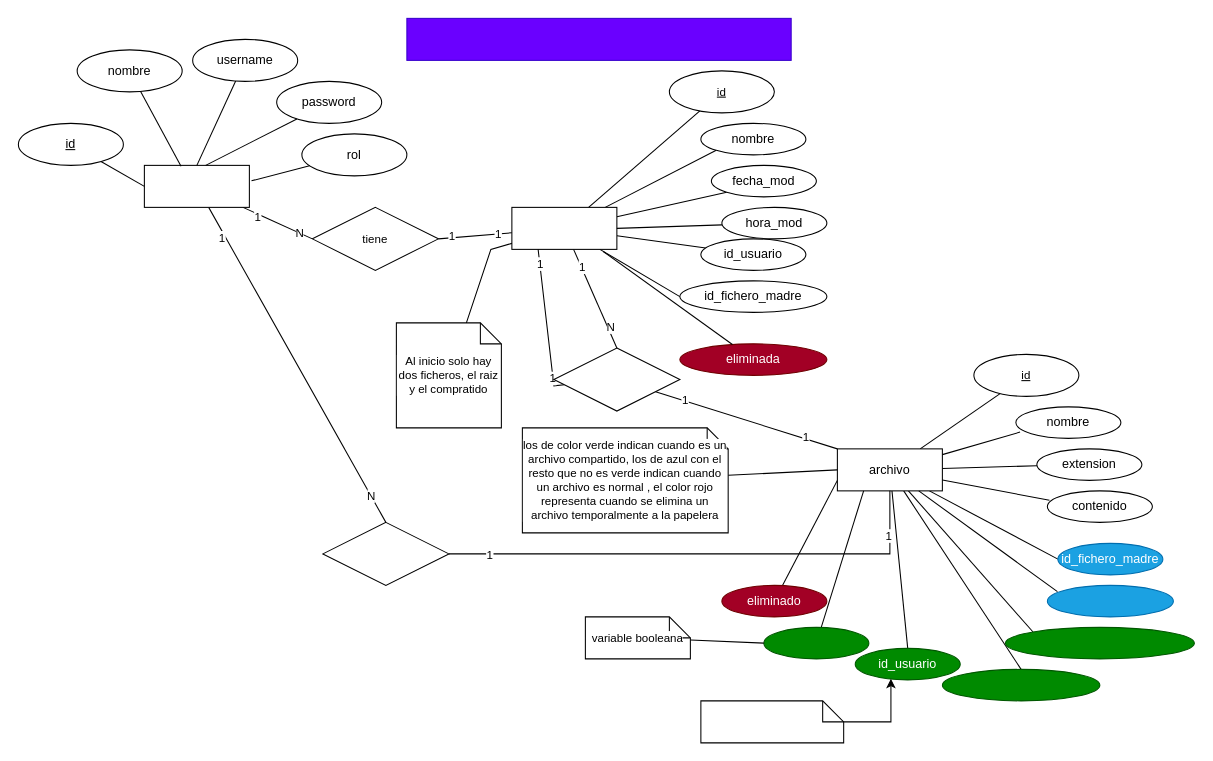
Image size: 1213x761. Some labels were removed from this diagram. The shapes that lost their labels are listed below. From the top down, each one's centre as x and y in pixels, then its label:
At (598,38): "RELACION ENTIDAD".
At (196,185): "usuarios".
At (564,227): "fichero".
At (616,379): "contiene".
At (385,553): "comparte".
At (1109,600): "fechamod".
At (816,642): "compartido".
At (1099,642): "fecha_compratido".
At (1020,684): "usuario_que_compratio".
At (772,721): "el usuario dueño de archivo compartido".
